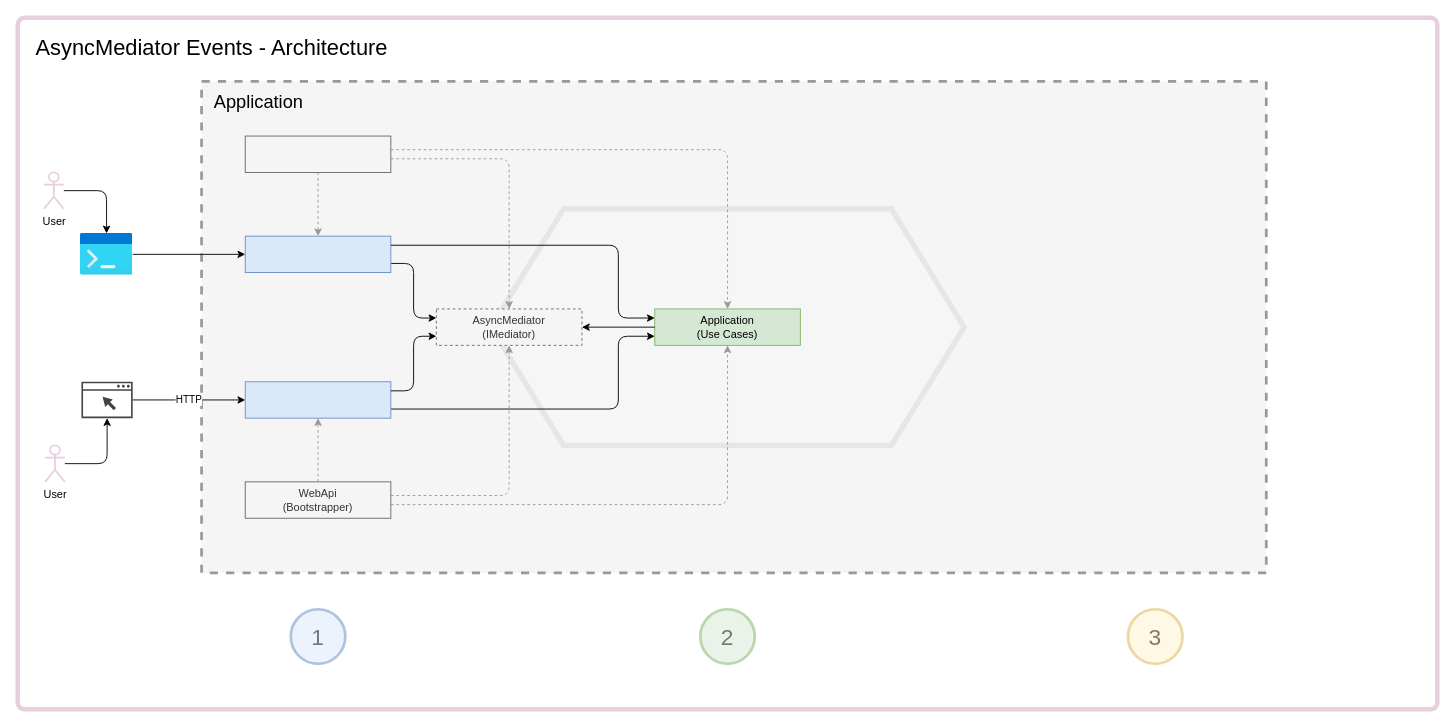
The diagram is 1455 pixels wide and 727 high, and some of its shapes have lost their labels. The box of each missing label's shape, as (x1, y1, x2, y2) in pixels:
Cli (Bootstrapper): (244, 135, 391, 172)
Cli.Presentation (UI): (244, 235, 391, 273)
Console: (80, 233, 132, 275)
Web Browser: (81, 381, 132, 418)
WebApi.Presentation (UI): (244, 381, 391, 418)
